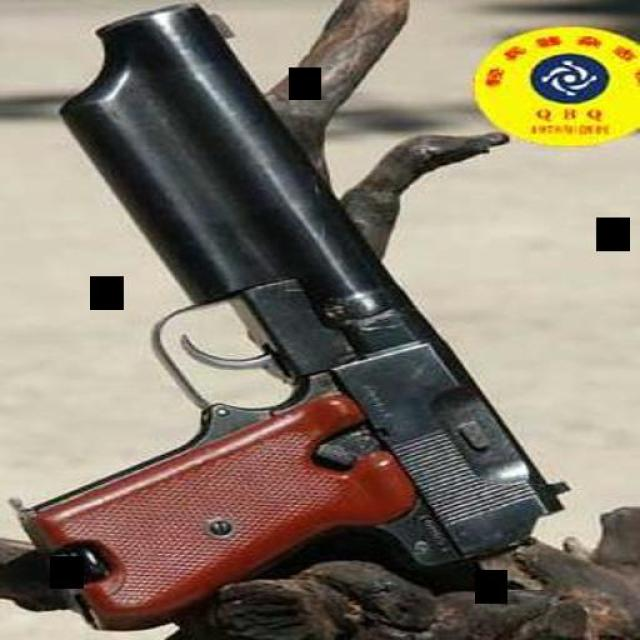gun: (8, 0, 570, 629)
